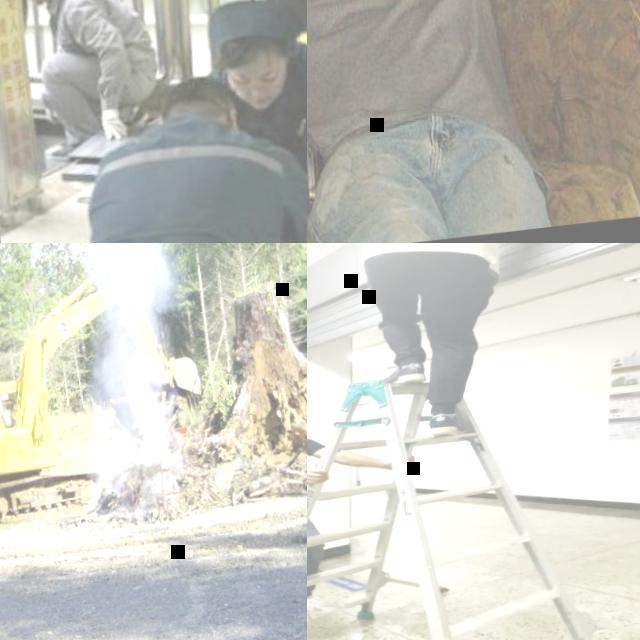NO-Hardhat: (211, 5, 296, 63), (156, 71, 236, 119)
NO-Mask: (238, 85, 284, 112), (27, 0, 53, 6)
NO-Safety Vest: (69, 112, 298, 243), (307, 0, 516, 143), (235, 63, 307, 194), (54, 0, 153, 73), (361, 243, 497, 267)
Person: (307, 0, 572, 243), (344, 243, 636, 444), (58, 53, 307, 243), (307, 380, 433, 626), (197, 0, 307, 243), (12, 0, 166, 161), (0, 397, 16, 427)
machinery: (0, 243, 216, 531)
